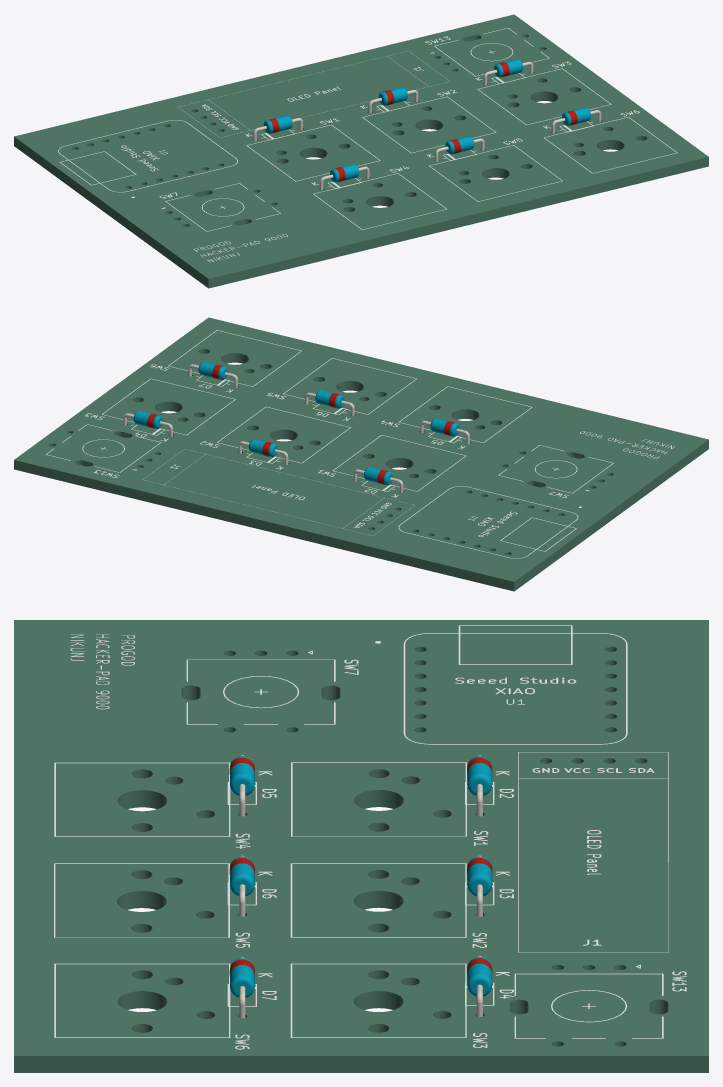
File: hackerpad_9000.glb
The picture shows the model from 3 angles, top to bottom: view 1: azimuth 30°, elevation 25°; view 2: azimuth 150°, elevation 25°; view 3: azimuth 270°, elevation 25°; orthographic projection. The views are drawn at different scales.
Parts seen in each view (by area): view 1: =>[0:1:1:4], =>[0:1:1:3], D7, D4, D3, D6, D2, D5; view 2: =>[0:1:1:4], =>[0:1:1:3], D3, D7, D2, D6, D4, D5; view 3: =>[0:1:1:4], =>[0:1:1:3], D3, D2, D4, D7, D5, D6.
Part boxes in pixels (box(x1,y1,x2,y2)): =>[0:1:1:4]: box(14, 14, 708, 288); =>[0:1:1:3]: box(58, 28, 677, 262); D7: box(551, 107, 601, 133); D4: box(483, 59, 533, 85); D3: box(368, 87, 418, 113); D6: box(435, 136, 484, 161); D2: box(253, 115, 302, 141); D5: box(320, 164, 369, 190); =>[0:1:1:4]: box(14, 317, 708, 591); =>[0:1:1:3]: box(46, 330, 674, 558); D3: box(238, 439, 288, 464); D7: box(188, 361, 237, 387); D2: box(353, 467, 403, 492); D6: box(305, 390, 354, 416); D4: box(123, 410, 172, 436); D5: box(420, 418, 469, 444); =>[0:1:1:4]: box(14, 620, 708, 1072); =>[0:1:1:3]: box(54, 625, 686, 1049); D3: box(467, 855, 492, 916); D2: box(467, 755, 492, 816); D4: box(467, 955, 492, 1016); D7: box(229, 957, 254, 1018); D5: box(229, 755, 254, 816); D6: box(229, 855, 254, 916).
Bounding box in the file's own units: 0.0825 × 0.00501 × 0.0556.
